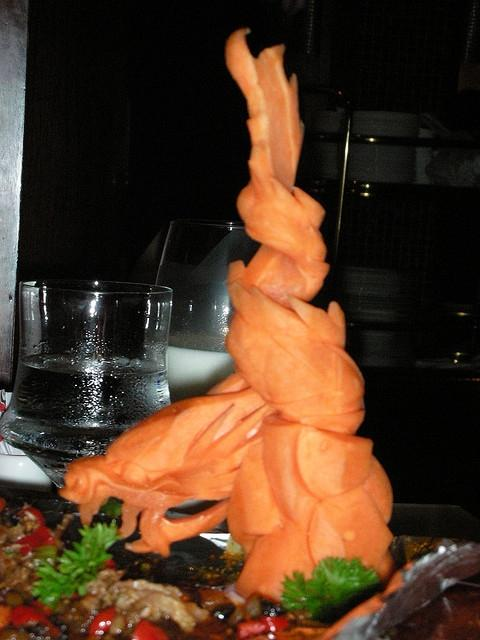carrot: (57, 28, 400, 604), (310, 562, 412, 640)
